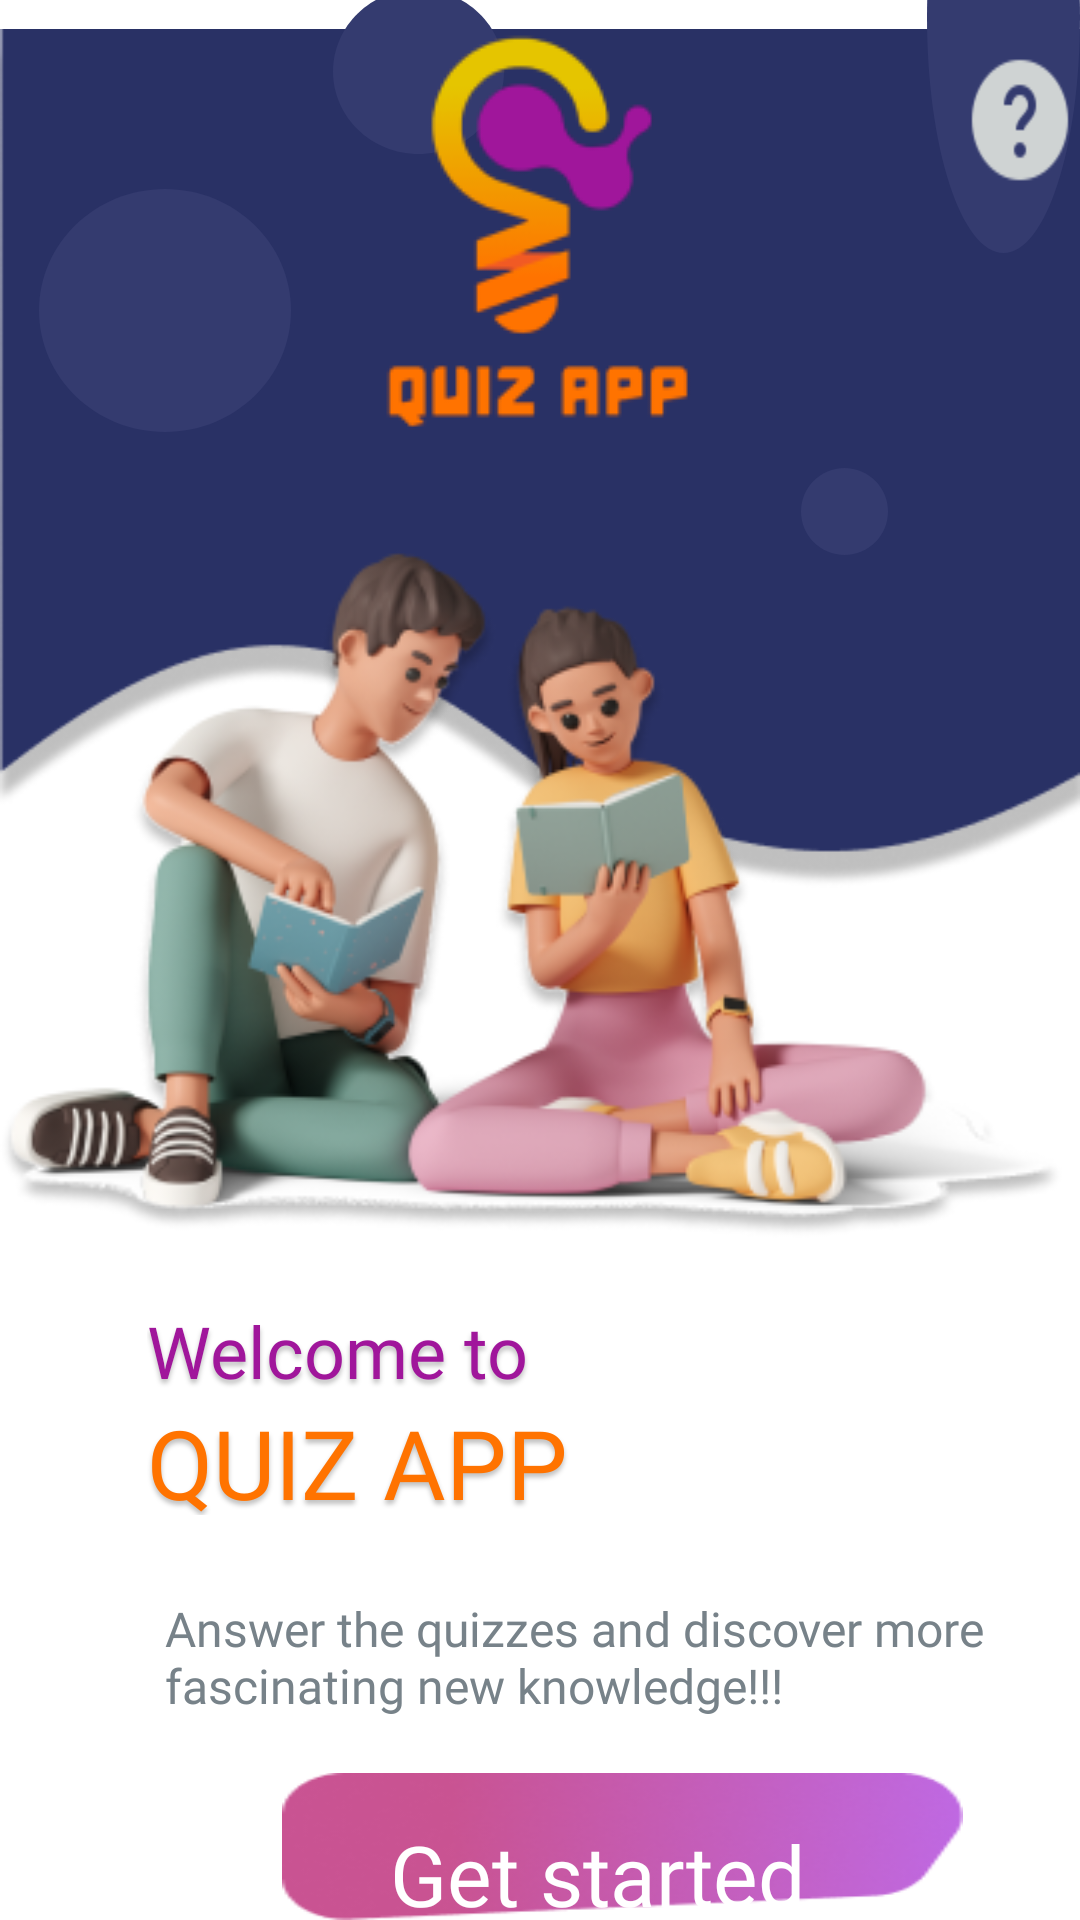

Locate icon controls on the screen. Image size 1080×1920, boxes as (x1, y1, x2, y2).
question: (971, 59, 1069, 181)
